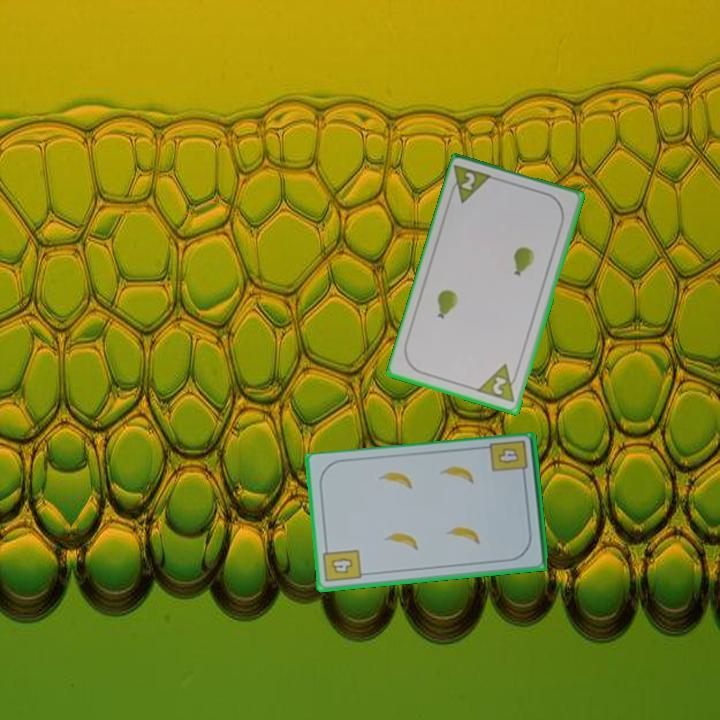2p: (446, 162, 496, 207), (474, 361, 522, 406)
4b: (487, 437, 531, 482), (320, 542, 364, 585)
